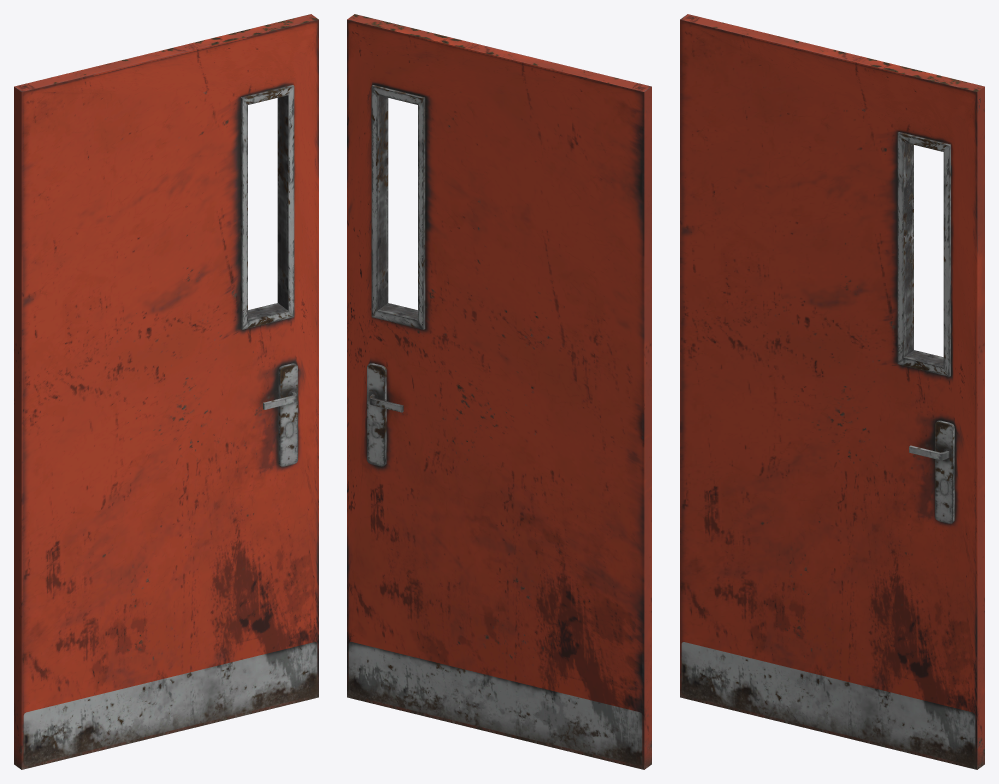
The model's file is SM_Door_A_Red.glb.
3 renders of one model, left to right at view 1: azimuth 30°, elevation 25°; view 2: azimuth 150°, elevation 25°; view 3: azimuth 330°, elevation 25°, orthographic.
Parts seen in each view (by area): view 1: SM_Door_A_Red; view 2: SM_Door_A_Red; view 3: SM_Door_A_Red.
Part boxes in pixels (x1=…): SM_Door_A_Red: x1=14, y1=14, x2=318, y2=769; SM_Door_A_Red: x1=347, y1=14, x2=651, y2=769; SM_Door_A_Red: x1=680, y1=14, x2=984, y2=769.
Size of the model in its own units: 1.12 by 2.44 by 0.1401.
2 materials, 2 textured.
